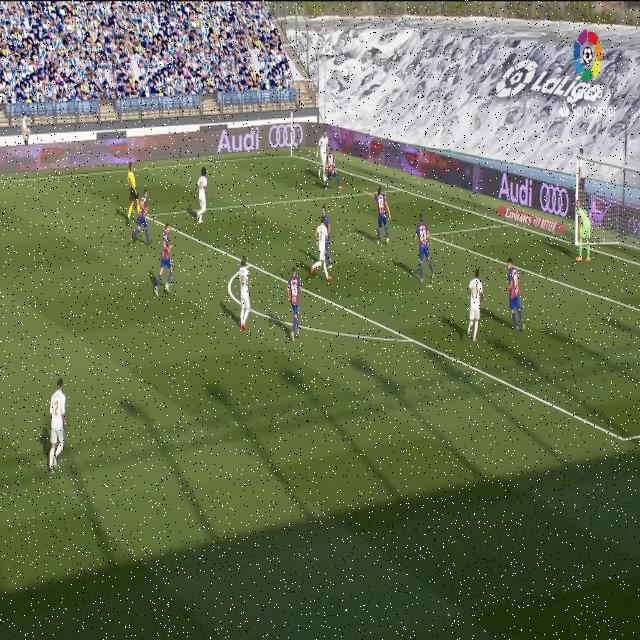GoalKeeper: (575, 198, 596, 264)
TEAM 1: (498, 251, 527, 339), (154, 224, 182, 302), (363, 186, 397, 250), (409, 213, 437, 290), (285, 264, 307, 344), (128, 189, 152, 249), (322, 147, 339, 194), (323, 204, 333, 268)
TEAM 2: (43, 376, 70, 474), (466, 262, 486, 350), (238, 257, 254, 336), (316, 128, 331, 192), (195, 163, 210, 226)
